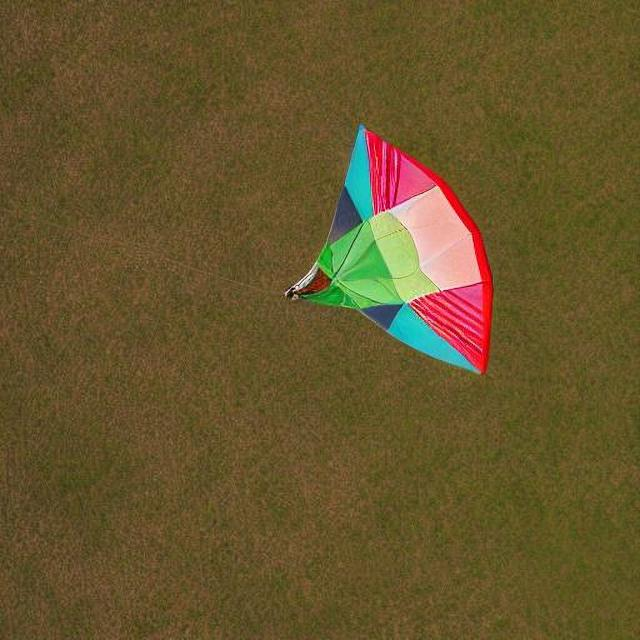floating object: (283, 126, 497, 368)
